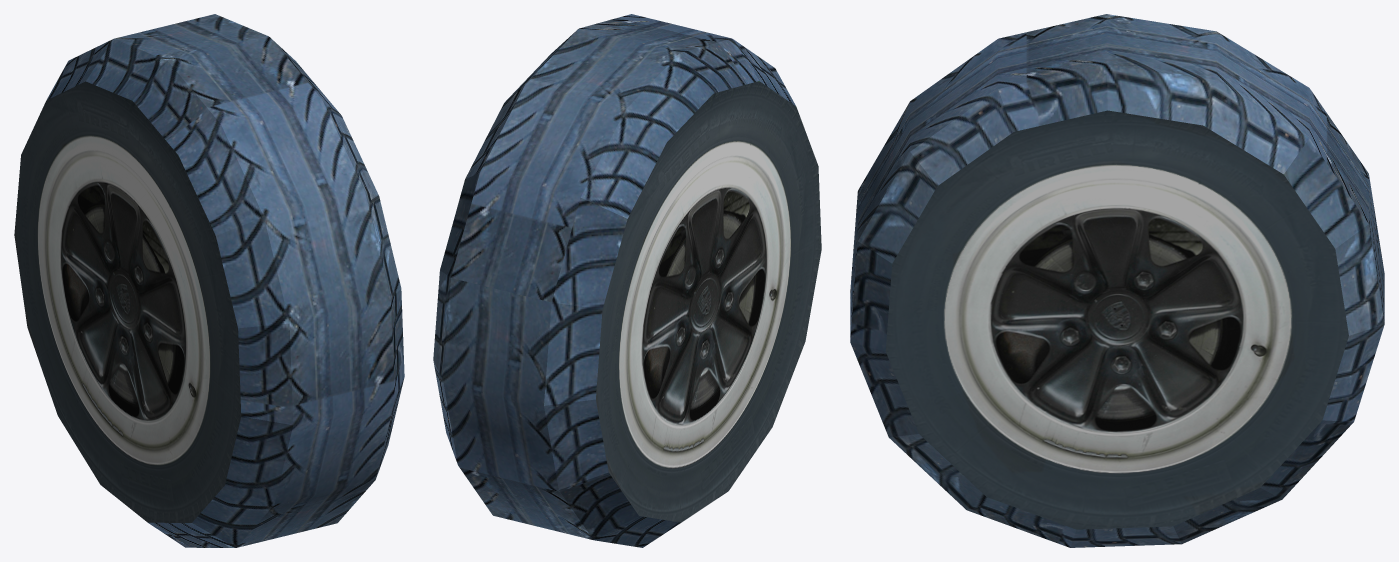
Rendered from Comunes.FBX.
The picture shows the model from 3 angles, left to right: view 1: azimuth 30°, elevation 25°; view 2: azimuth 150°, elevation 25°; view 3: azimuth 270°, elevation 25°; orthographic projection. The views are drawn at different scales.
Parts seen in each view (by area): view 1: Wheel010; view 2: Wheel010; view 3: Wheel010.
Part boxes in pixels (x1,y1,x2,y2): Wheel010: (14,14,404,547); Wheel010: (433,14,821,547); Wheel010: (850,14,1384,547).
Bounding box in the file's own units: 4.7 × 13.03 × 13.05.
Materials: 1 (1 with a texture image).
